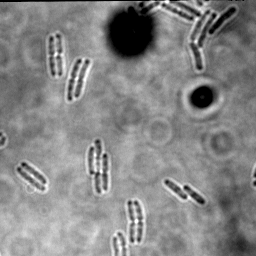Dividing: (15, 166, 46, 193), (65, 58, 82, 102), (73, 58, 91, 99), (19, 162, 48, 186), (93, 138, 103, 195), (46, 36, 58, 79), (133, 199, 144, 244), (126, 198, 136, 244), (54, 32, 64, 77), (101, 153, 110, 192)
Microcolony: (135, 1, 238, 72)
Rod: (163, 178, 188, 201), (182, 184, 206, 206), (87, 145, 96, 175)
